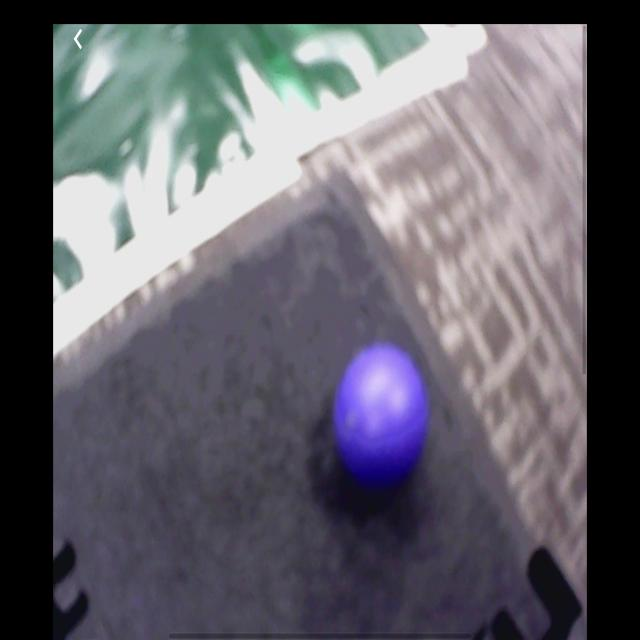ball: (334, 346, 428, 484)
